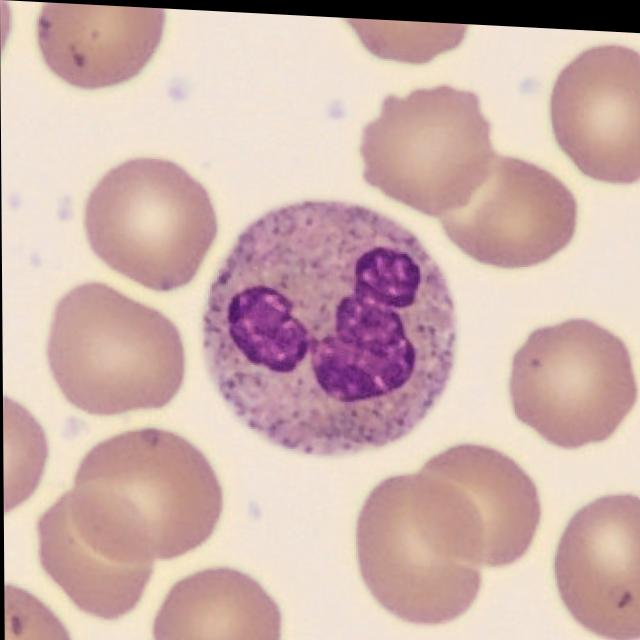Neutrofilo segmentado: (201, 195, 457, 451)
